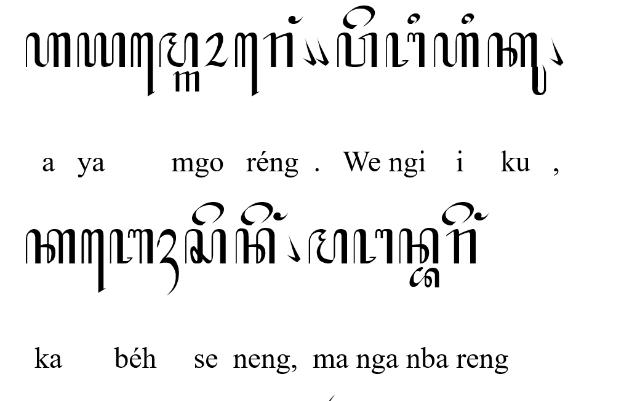_b: (408, 268, 439, 288)
_h1: (156, 230, 180, 296)
b: (110, 230, 154, 264)
e: (342, 5, 376, 29), (240, 202, 274, 226), (192, 201, 224, 226), (442, 202, 474, 226)
e1: (234, 32, 260, 98), (80, 228, 106, 294), (131, 32, 155, 96)
g: (172, 71, 200, 93)
h: (25, 32, 71, 68), (433, 32, 479, 68)
i: (408, 12, 420, 24), (462, 12, 474, 24)
k: (25, 228, 75, 264)
kom: (302, 37, 316, 65), (549, 38, 563, 66)
ku: (487, 32, 547, 96)
m: (307, 229, 348, 265), (158, 32, 198, 68)
n: (235, 229, 275, 265), (399, 228, 439, 264)
ng: (286, 234, 300, 264), (315, 37, 329, 65), (474, 212, 490, 222), (287, 16, 305, 24), (274, 212, 288, 222)
nga: (353, 229, 393, 266), (385, 32, 425, 68)
o: (203, 33, 229, 67)
r: (262, 31, 294, 67), (446, 230, 476, 264)
s: (185, 229, 228, 265)
w: (337, 32, 378, 68)
y: (76, 32, 126, 68)
